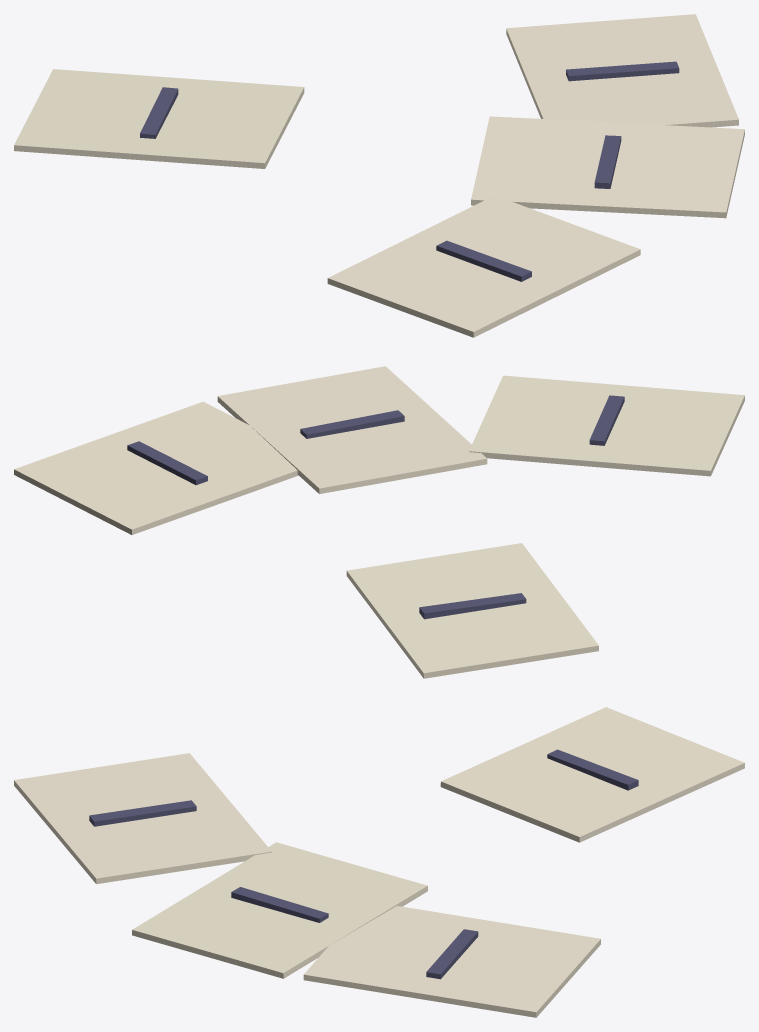
The model's file is stage1_deco_paper.glb.
3 renders of one model, top to bottom at view 1: azimuth 30°, elevation 25°; view 2: azimuth 150°, elevation 25°; view 3: azimuth 270°, elevation 25°, orthographic. The views are drawn at different scales.
Parts seen in each view (by area): view 1: stage1_deco_paper_paper, stage1_deco_paper_inkLine; view 2: stage1_deco_paper_paper, stage1_deco_paper_inkLine; view 3: stage1_deco_paper_paper, stage1_deco_paper_inkLine.
Part boxes in pixels (x1,y1,x2,y2): stage1_deco_paper_paper: (14, 14, 744, 337); stage1_deco_paper_inkLine: (140, 61, 679, 281); stage1_deco_paper_paper: (14, 366, 744, 678); stage1_deco_paper_inkLine: (127, 395, 624, 619); stage1_deco_paper_paper: (14, 707, 744, 1017); stage1_deco_paper_inkLine: (89, 749, 638, 979).
Bounding box in the file's own units: 0.4652 × 0.0101 × 0.4711.
